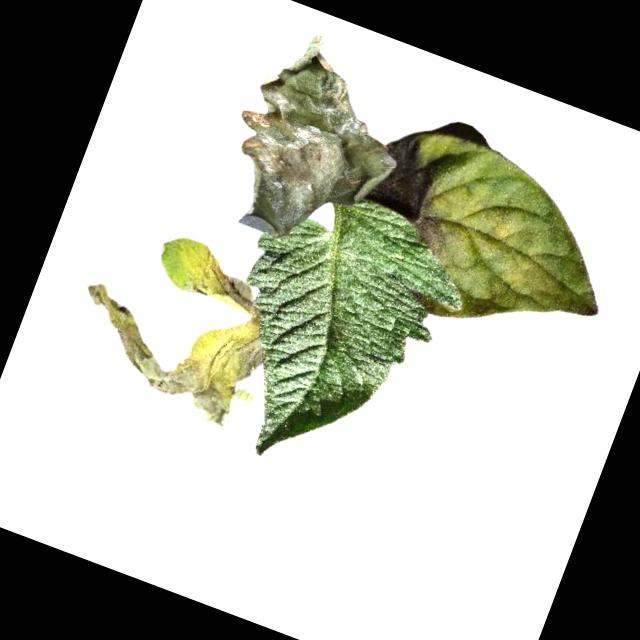Late_blight: (206, 21, 426, 266), (54, 277, 268, 435), (368, 132, 478, 256), (170, 238, 269, 317)
